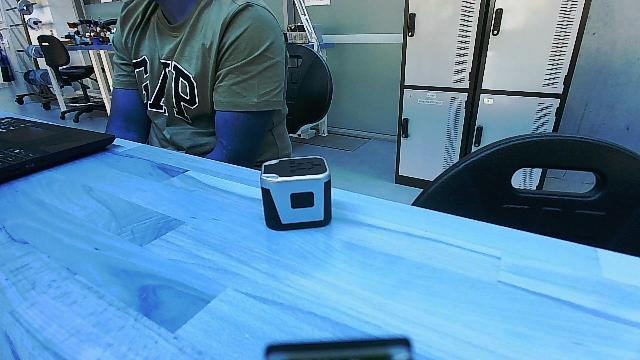adapter: (250, 150, 336, 238)
